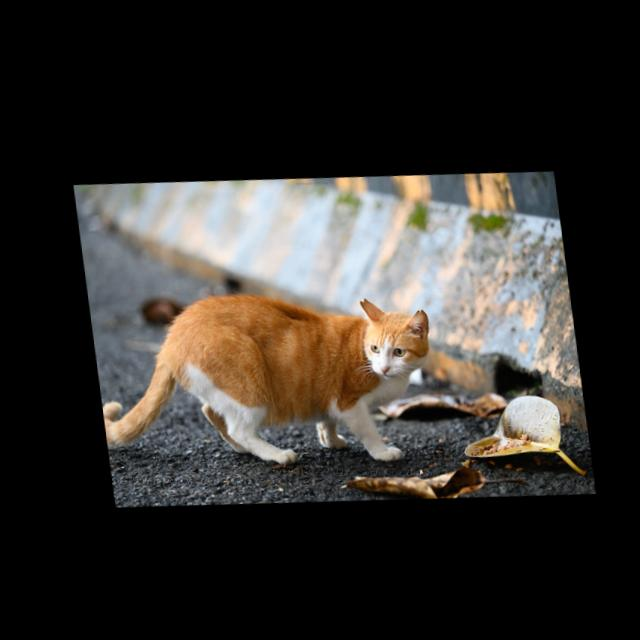animals: (84, 267, 444, 484)
